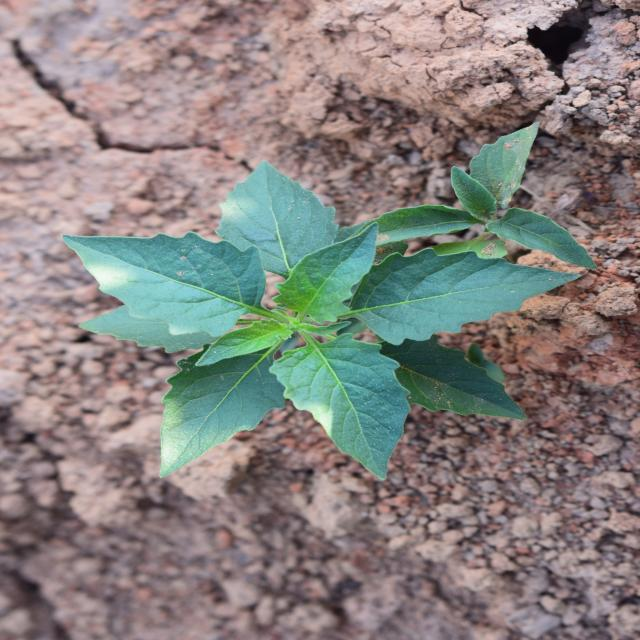Black_nightshade: (195, 91, 506, 562)
